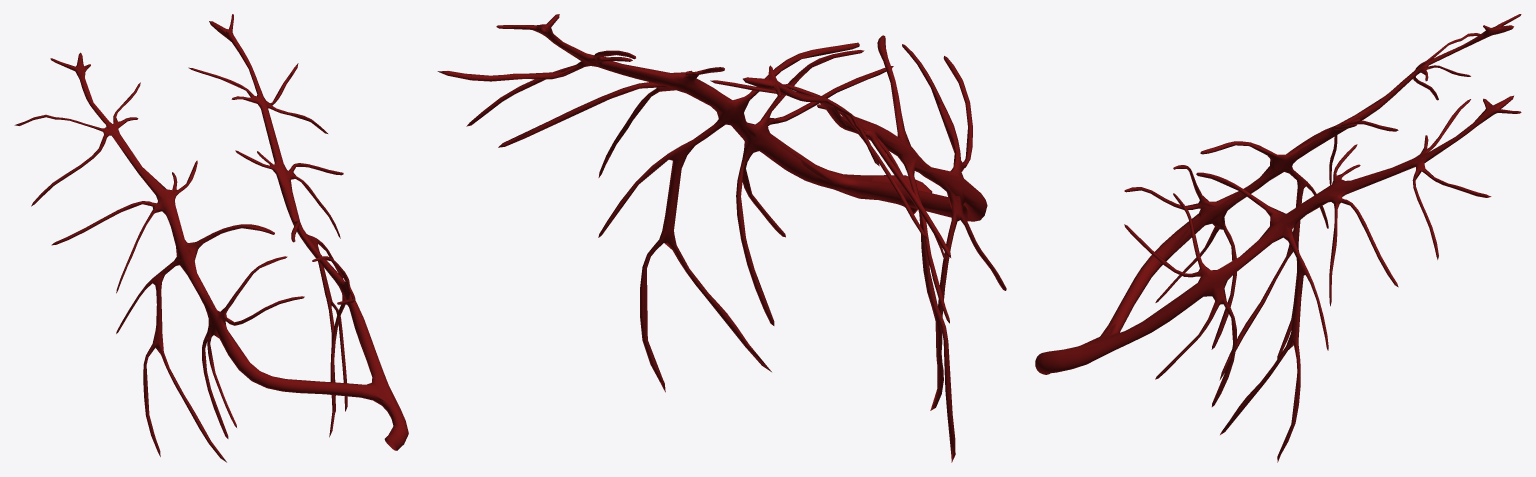
File: arteriae pulmonales.fbx
The picture shows the model from 3 angles, left to right: view 1: azimuth 30°, elevation 25°; view 2: azimuth 150°, elevation 25°; view 3: azimuth 270°, elevation 25°; orthographic projection. The views are drawn at different scales.
Parts seen in each view (by area): view 1: arteriae pulmonales, arteriae pulmonales low; view 2: arteriae pulmonales, arteriae pulmonales low; view 3: arteriae pulmonales, arteriae pulmonales low.
Part boxes in pixels (left/top/right/bottom): arteriae pulmonales: left=14, top=14, right=408, bottom=462; arteriae pulmonales low: left=15, top=17, right=401, bottom=460; arteriae pulmonales: left=437, top=14, right=1006, bottom=461; arteriae pulmonales low: left=466, top=16, right=983, bottom=462; arteriae pulmonales: left=1035, top=14, right=1521, bottom=462; arteriae pulmonales low: left=1039, top=15, right=1518, bottom=460.
Size of the model in its own units: 22.75 by 23.37 by 29.26.
